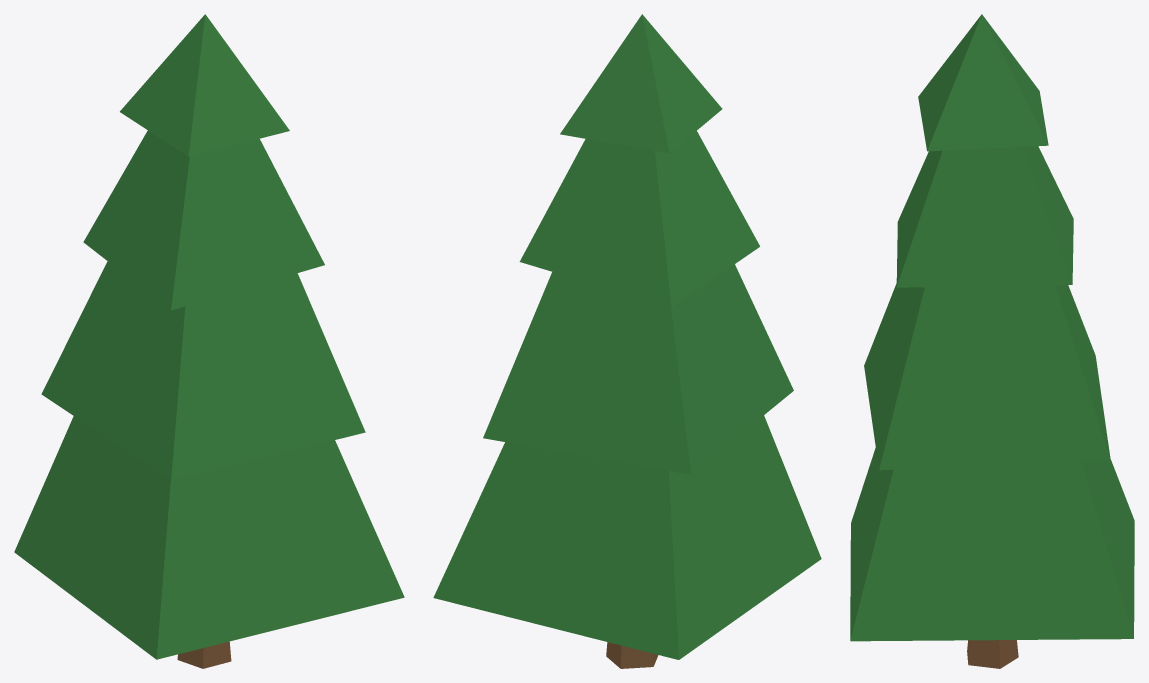
The model's file is tree-fir.glb.
3 renders of one model, left to right at view 1: azimuth 30°, elevation 25°; view 2: azimuth 150°, elevation 25°; view 3: azimuth 270°, elevation 25°, orthographic.
Visible parts, largest first — view 1: tree-fir; view 2: tree-fir; view 3: tree-fir.
Part boxes in pixels (box(x1,y1,x2,y2)): tree-fir: box(14, 14, 404, 668); tree-fir: box(433, 14, 821, 668); tree-fir: box(850, 14, 1134, 668).
Bounding box in the file's own units: 2.33 × 5.79 × 2.33.
1 material, 1 textured.
